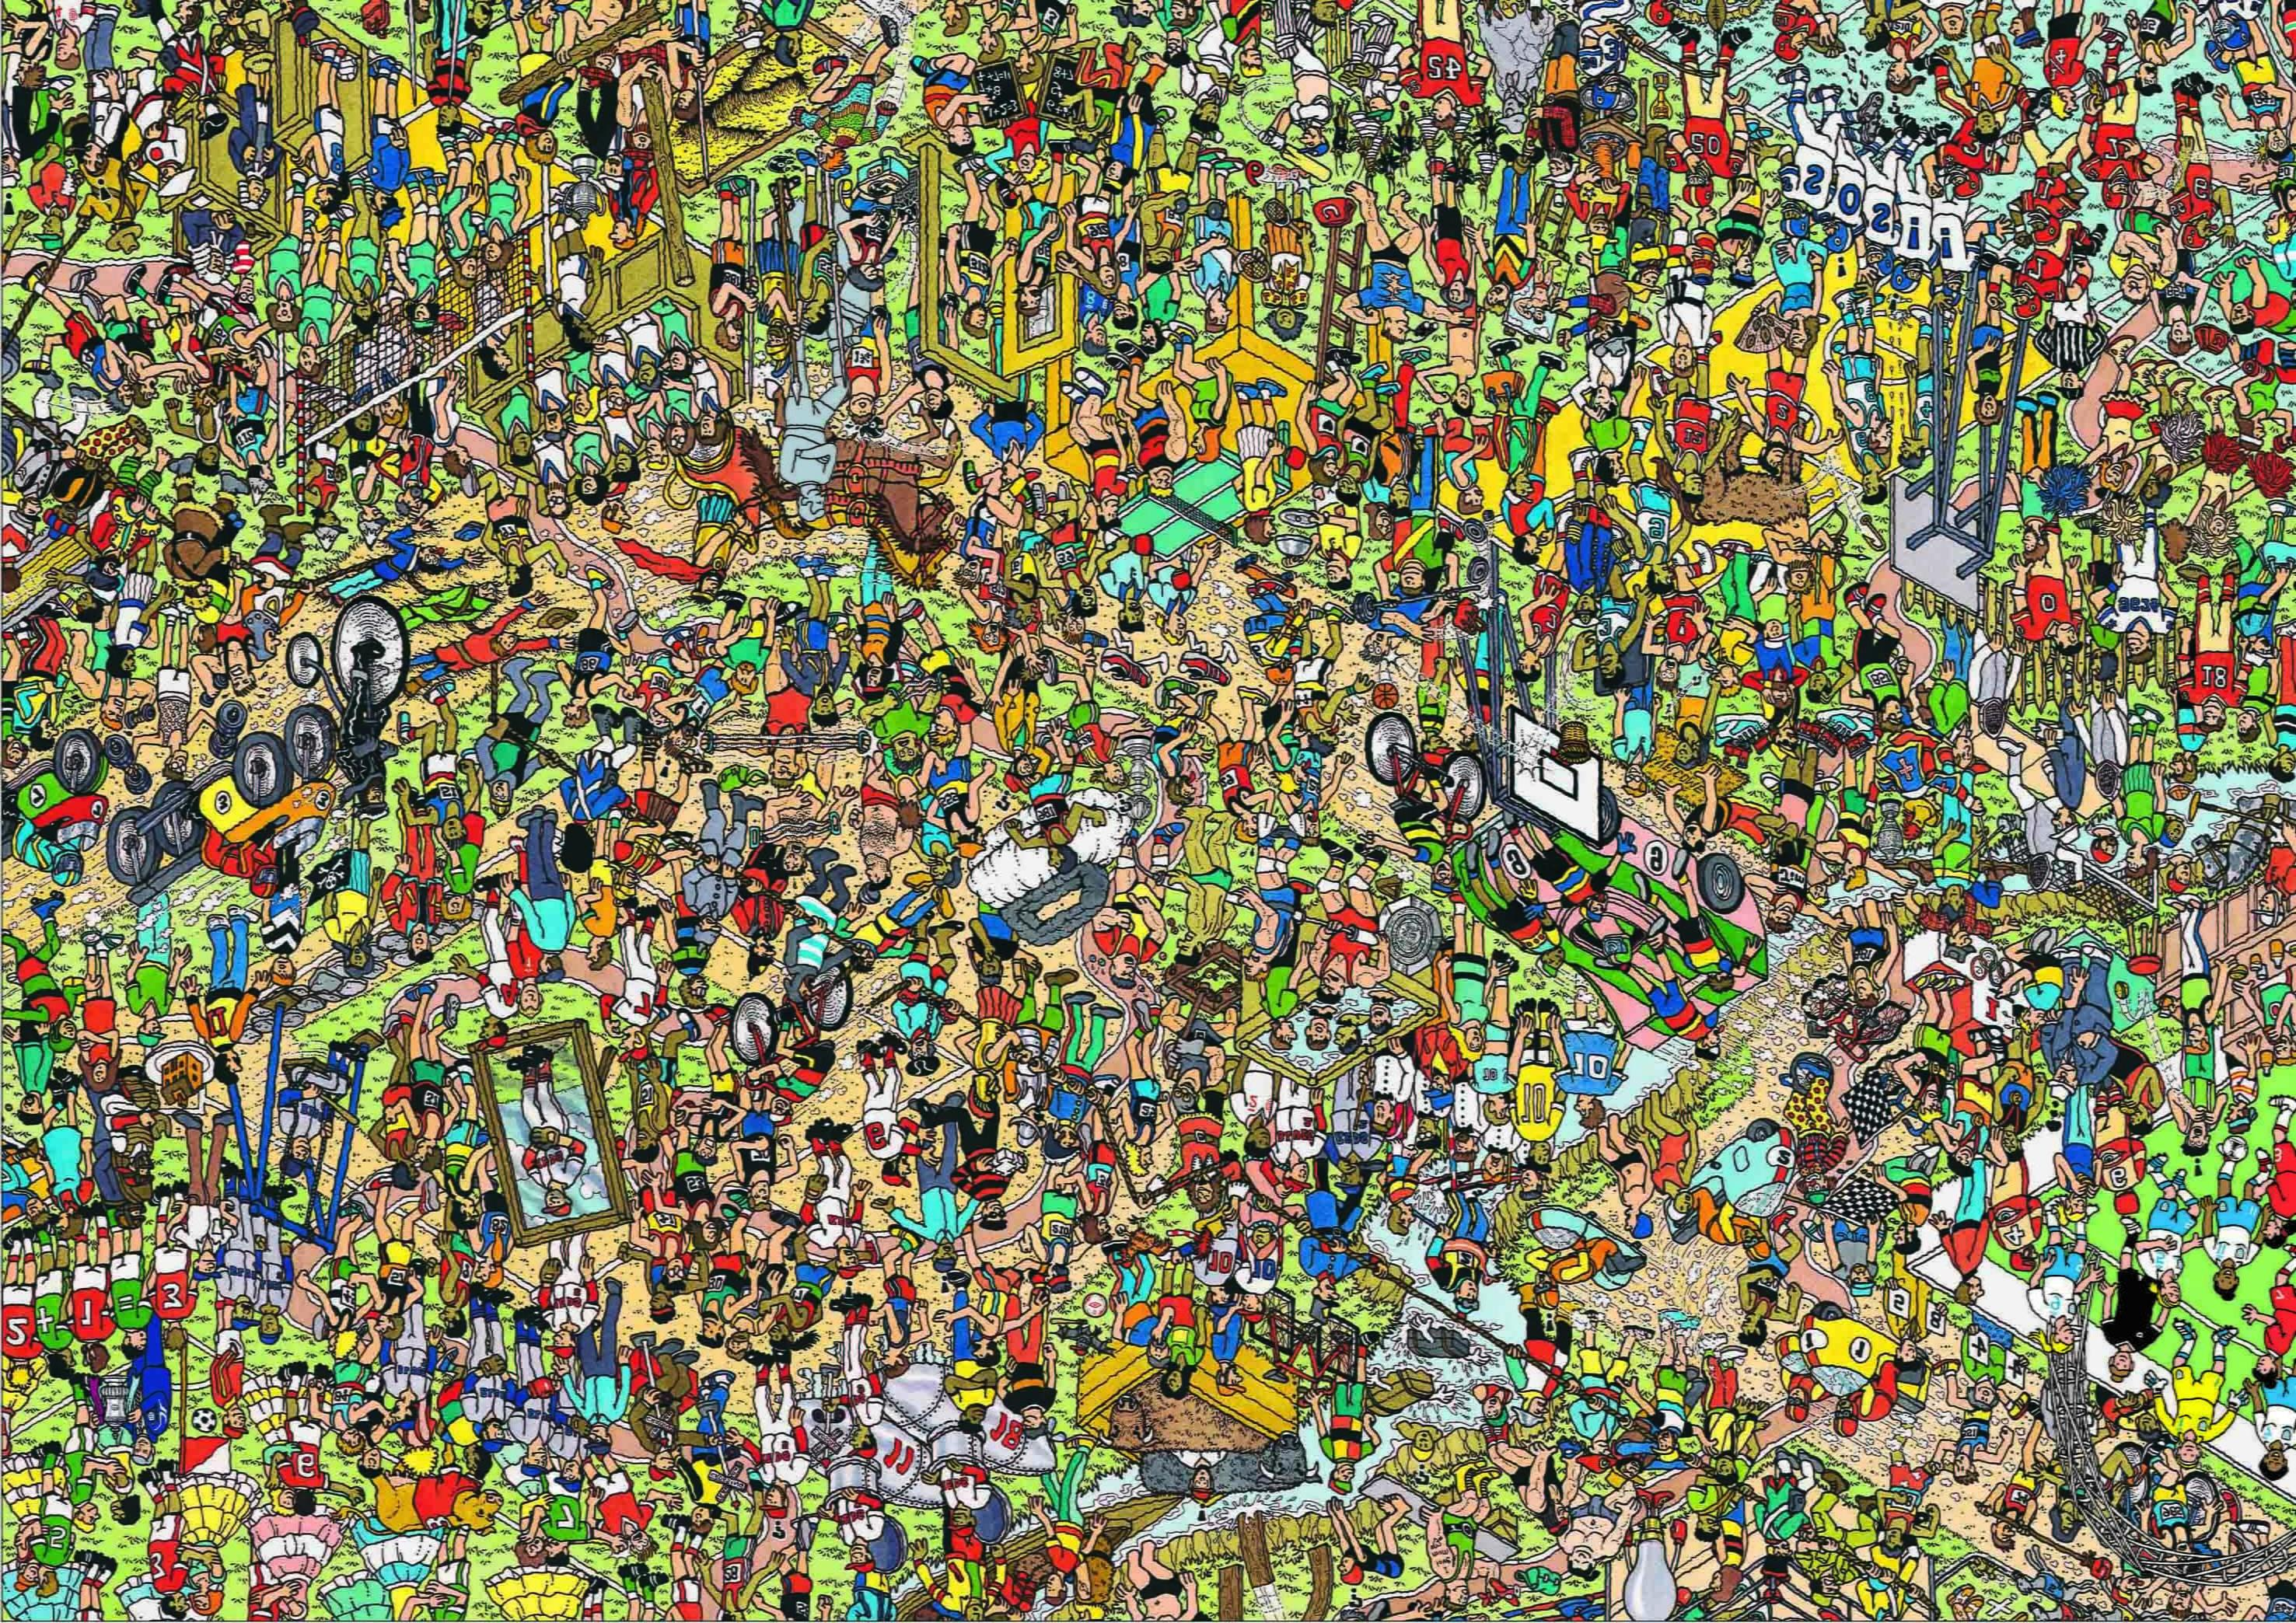waldos: (225, 241, 264, 313)
